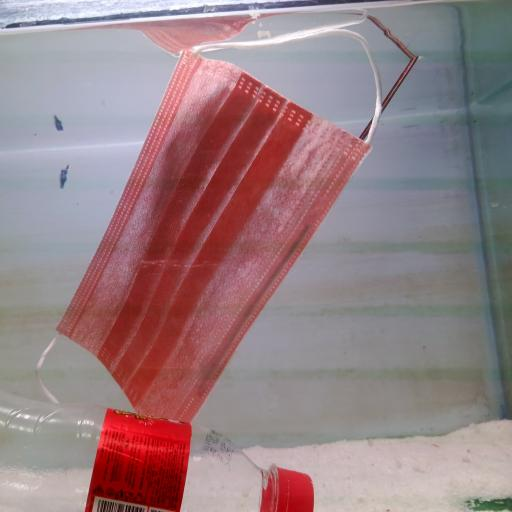bottle_cap: (263, 462, 317, 508)
mask: (36, 33, 386, 403)
plastic_bottle: (0, 394, 315, 511)
